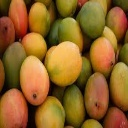mango: (19, 56, 50, 105)
